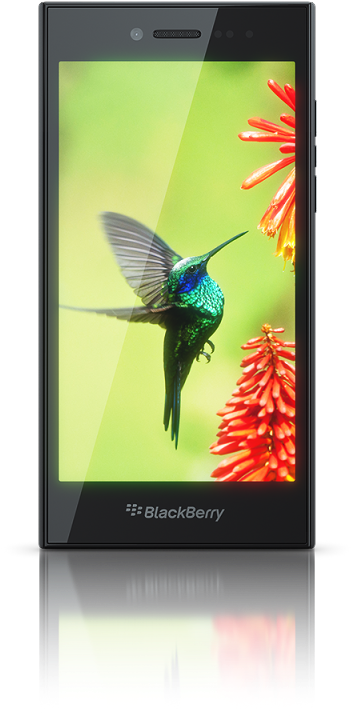phone: (24, 8, 327, 578)
